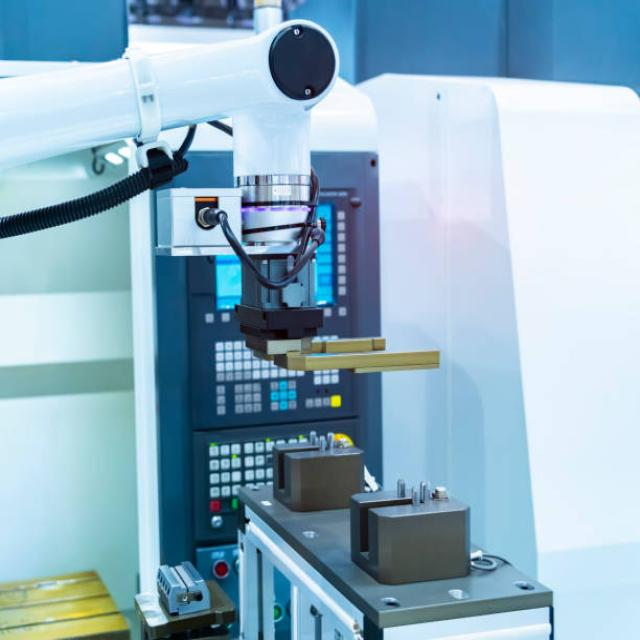Robotic-arm: (0, 13, 344, 336)
